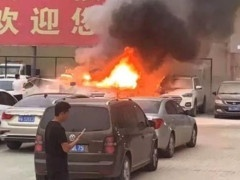fire: (89, 51, 141, 90)
